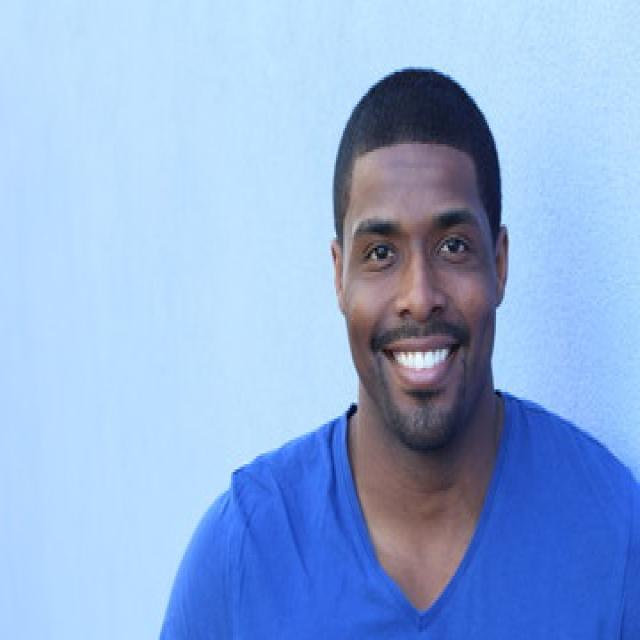Nonhelmet: (324, 59, 516, 453)
